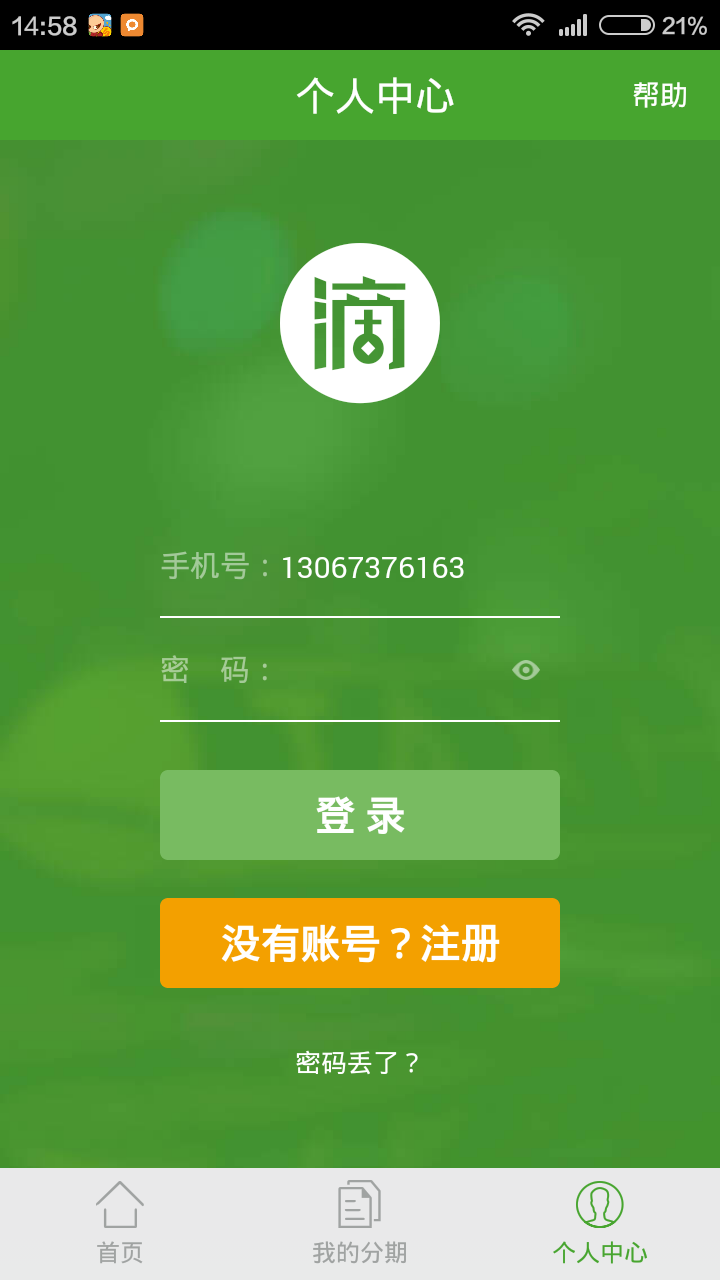button: (145, 758, 573, 872), (150, 892, 571, 1002)
nav: (2, 1161, 720, 1276)
textview: (1, 52, 720, 141), (148, 641, 575, 731), (151, 540, 568, 629)
